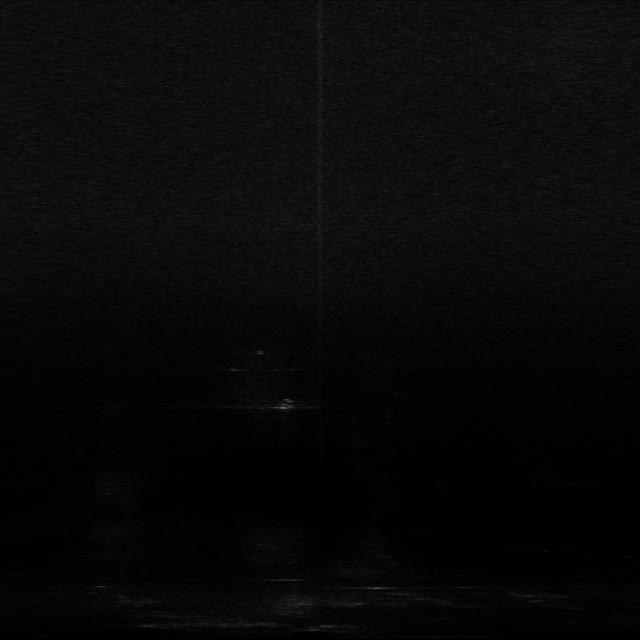rov: (273, 395, 297, 415)
